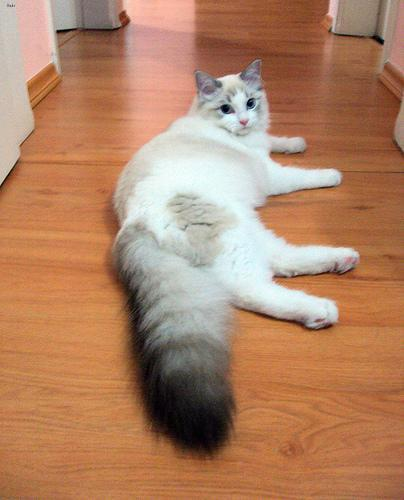cat: (111, 58, 359, 454)
